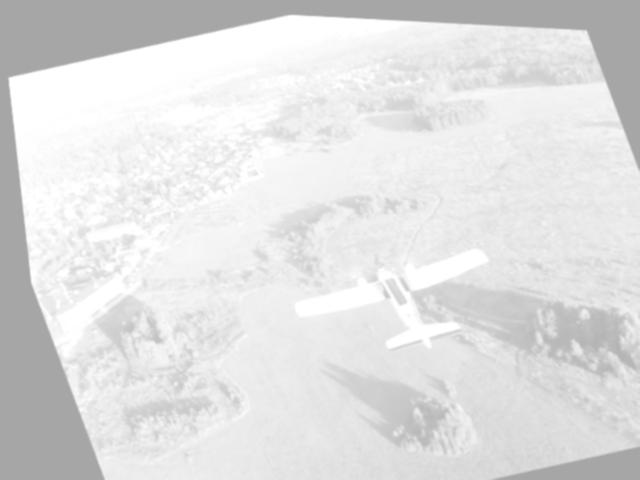hedef: (270, 220, 514, 380)
